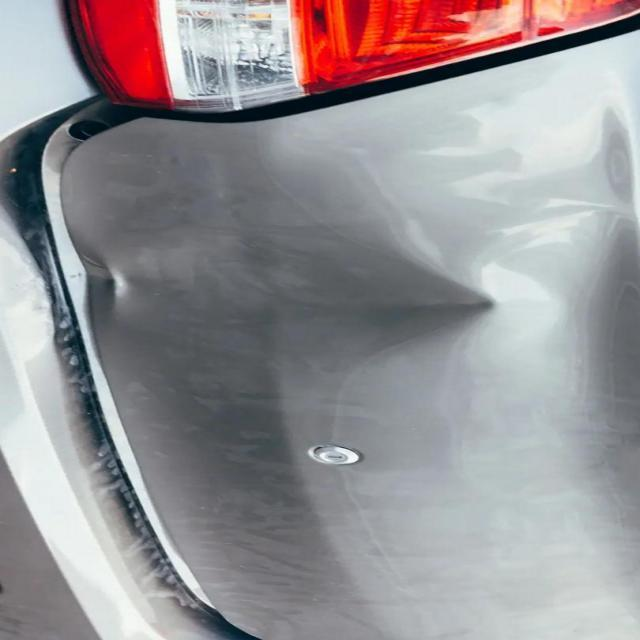dent: (37, 223, 540, 356)
